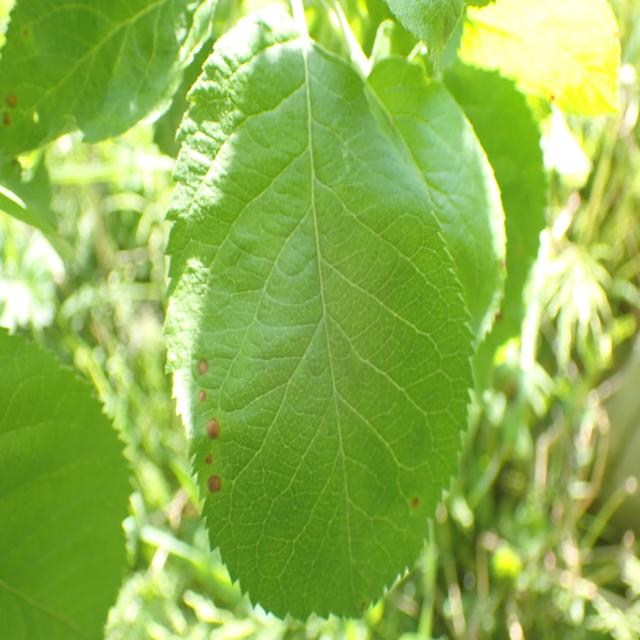Black Rot: (200, 463, 230, 515), (400, 481, 429, 525), (186, 337, 212, 380), (197, 412, 226, 444), (190, 387, 214, 418), (196, 445, 221, 471)
